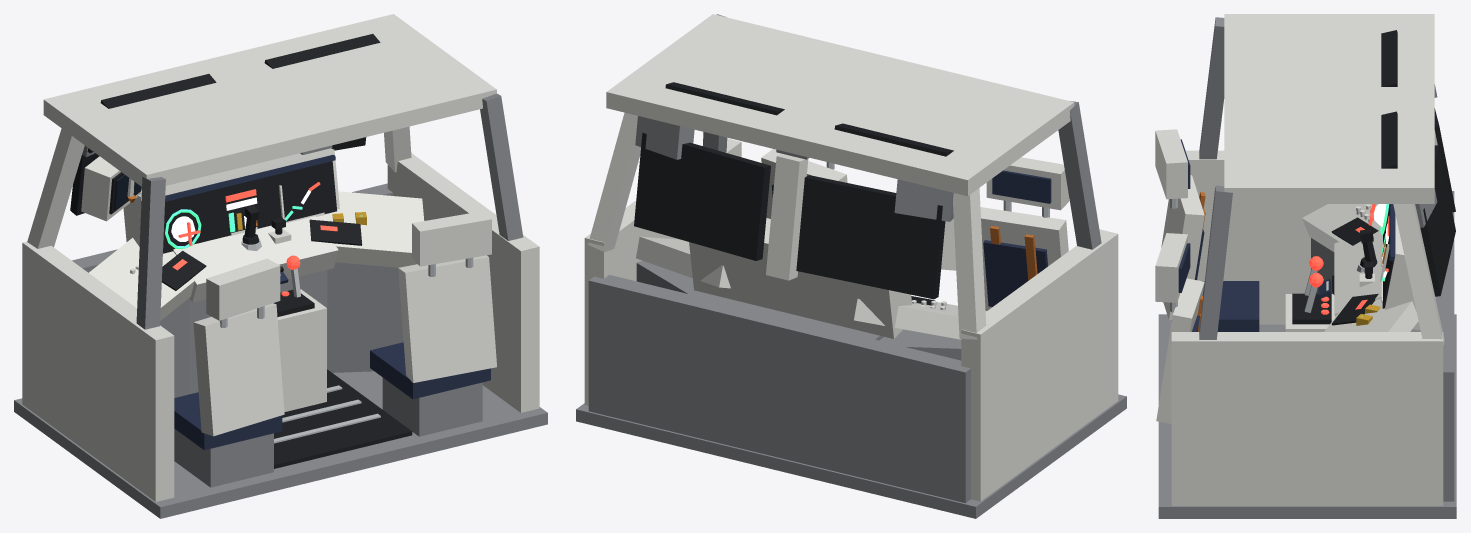
Rendered from cockpit-pilot.glb.
3 renders of one model, left to right at view 1: azimuth 30°, elevation 25°; view 2: azimuth 150°, elevation 25°; view 3: azimuth 270°, elevation 25°, orthographic. The views are drawn at different scales.
Visible parts, largest first — view 1: CockpitPilot_Hull, CockpitPilot_Titanium, CockpitPilot_HullBlack, CockpitPilot_Pack, CockpitPilot_Aluminum, CockpitPilot_Lamp, CockpitPilot_LedRed; view 2: CockpitPilot_Hull, CockpitPilot_Titanium, CockpitPilot_HullBlack, CockpitPilot_Pack, CockpitPilot_Foam; view 3: CockpitPilot_Hull, CockpitPilot_Titanium, CockpitPilot_HullBlack, CockpitPilot_Pack, Joystick_RHC_HullBlack, CockpitPilot_LedRed, Throttle_Lever_LedRed.
Part boxes in pixels (x1,y1,x2,y2): CockpitPilot_Hull: [22, 14, 539, 501]; CockpitPilot_Titanium: [14, 93, 547, 518]; CockpitPilot_HullBlack: [70, 34, 412, 468]; CockpitPilot_Pack: [165, 155, 490, 450]; CockpitPilot_Aluminum: [219, 257, 473, 443]; CockpitPilot_Lamp: [171, 190, 310, 241]; CockpitPilot_LedRed: [172, 182, 337, 296]; CockpitPilot_Hull: [584, 14, 1118, 501]; CockpitPilot_Titanium: [576, 14, 1126, 518]; CockpitPilot_HullBlack: [634, 82, 953, 305]; CockpitPilot_Pack: [771, 170, 1051, 306]; CockpitPilot_Foam: [774, 175, 1037, 280]; CockpitPilot_Hull: [1155, 14, 1444, 505]; CockpitPilot_Titanium: [1158, 17, 1456, 518]; CockpitPilot_HullBlack: [1292, 30, 1455, 325]; CockpitPilot_Pack: [1171, 139, 1394, 331]; Joystick_RHC_HullBlack: [1360, 228, 1377, 267]; CockpitPilot_LedRed: [1321, 204, 1389, 314]; Throttle_Lever_LedRed: [1309, 256, 1323, 287].
Size of the model in its own units: 2.08 by 1.64 by 1.37.
